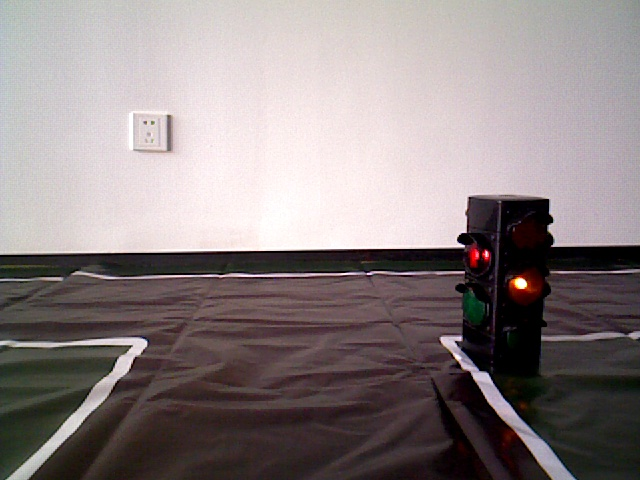yellow: (465, 196, 553, 365)
